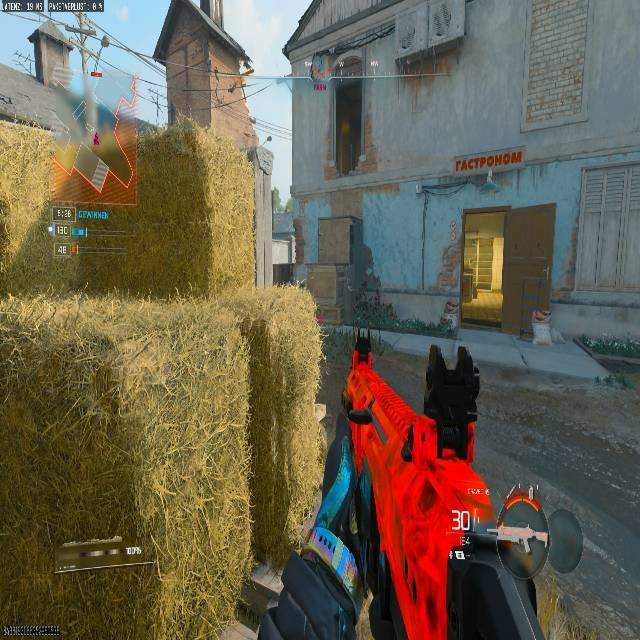player: (439, 300, 457, 337)
